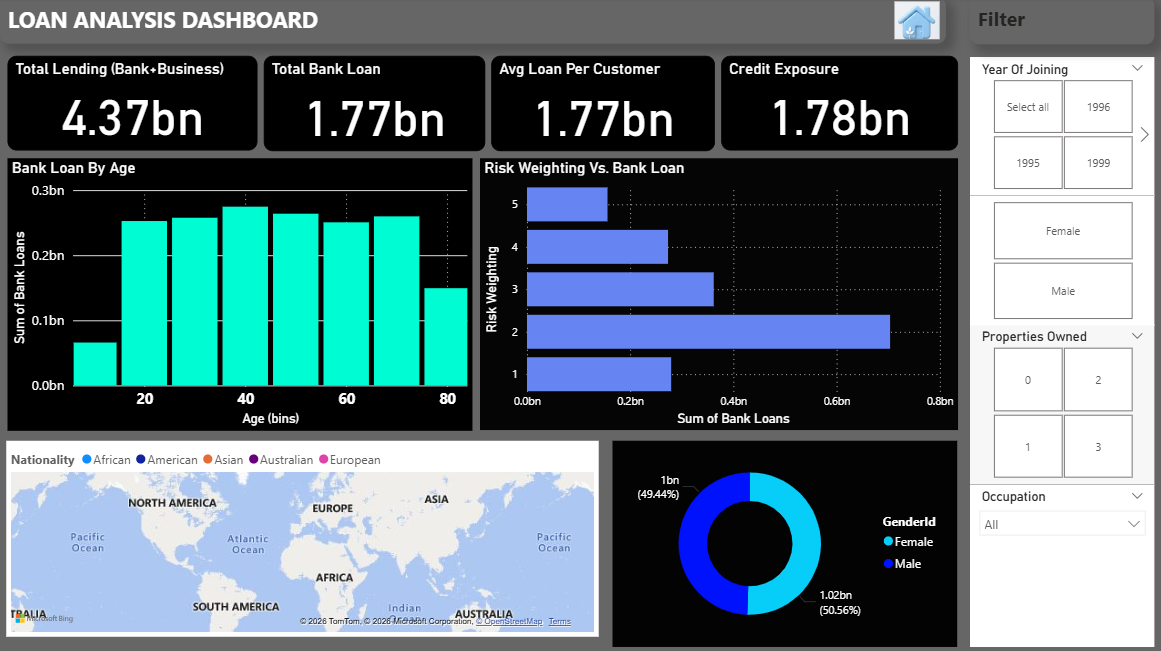

The page's visual inventory and layout, read from the dashboard file:
{"tool":"powerbi","page":{"name":"Page 2","canvas":[1280,720],"ordinal":1},"visuals":[{"type":"card","title":"Total Lending (Bank+Business)","fields":{"Values":["Banking.Total Lending"]},"box":[7.7,64.6,274.6,103.8],"z":0},{"type":"card","title":"Total Bank Loan","fields":{"Values":["Sum(Banking.Bank Loans)"]},"box":[289.2,64.6,243.1,104.6],"z":1000},{"type":"card","title":"Avg Loan Per Customer","fields":{"Values":["Banking.Avg Loan"]},"box":[539.4,64.4,245.6,104.4],"z":2000},{"type":"card","title":"Credit Exposure","fields":{"Values":["Banking.Credit Exposure"]},"box":[791.2,65,260,103.8],"z":3000},{"type":"clusteredColumnChart","title":"Bank Loan By Age","fields":{"Category":["Banking.Age (bins)"],"Y":["Sum(Banking.Bank Loans)"]},"box":[7.6,177.1,510,299.4],"z":4000},{"type":"textbox","box":[0,0,1038.6,51.4],"z":5000},{"type":"clusteredBarChart","title":"Risk Weighting Vs. Bank Loan ","fields":{"Category":["Banking.Risk Weighting"],"Y":["Sum(Banking.Bank Loans)"]},"box":[526.2,177.5,525,298.8],"z":6000},{"type":"donutChart","fields":{"Category":["Banking.GenderId"],"Y":["Sum(Banking.Bank Deposits)"]},"box":[672.5,487.5,378.8,226.2],"z":7000},{"type":"slicer","fields":{"Values":["Banking.Occupation"]},"box":[1065,535,202.5,178.8],"z":8000},{"type":"slicer","fields":{"Values":["Banking.GenderId"]},"box":[1065,217.5,202.5,142.5],"z":9000},{"type":"slicer","fields":{"Values":["Banking.Properties Owned"]},"box":[1065,360,202.5,175],"z":10000},{"type":"slicer","fields":{"Values":["Banking.Year Of Joining"]},"box":[1065.5,65.5,202.7,151.8],"z":11000},{"type":"filledMap","fields":{"Series":["Banking.Nationality"]},"box":[7.5,487.5,650,215],"z":12000},{"type":"image","box":[961.2,0,90,51.2],"z":13000},{"type":"textbox","box":[1065.5,0,202.7,51.8],"z":14000}]}

Visuals, with their boxes in screenshot pixels (x1, y1, x2, y2), scaled from the page's 1280x720 canvas onto the 1161x651 screenshot:
"Total Lending (Bank+Business)" card: (x1=7, y1=58, x2=256, y2=152)
"Total Bank Loan" card: (x1=262, y1=58, x2=483, y2=153)
"Avg Loan Per Customer" card: (x1=489, y1=58, x2=712, y2=153)
"Credit Exposure" card: (x1=718, y1=59, x2=953, y2=153)
"Bank Loan By Age" clusteredColumnChart: (x1=7, y1=160, x2=469, y2=431)
textbox: (x1=0, y1=0, x2=942, y2=46)
"Risk Weighting Vs. Bank Loan " clusteredBarChart: (x1=477, y1=160, x2=953, y2=431)
donutChart - Banking.GenderId x Sum(Banking.Bank Deposits): (x1=610, y1=441, x2=954, y2=645)
slicer - Banking.Occupation: (x1=966, y1=484, x2=1150, y2=645)
slicer - Banking.GenderId: (x1=966, y1=197, x2=1150, y2=326)
slicer - Banking.Properties Owned: (x1=966, y1=326, x2=1150, y2=484)
slicer - Banking.Year Of Joining: (x1=966, y1=59, x2=1150, y2=196)
filledMap - Banking.Nationality: (x1=7, y1=441, x2=596, y2=635)
image: (x1=872, y1=0, x2=953, y2=46)
textbox: (x1=966, y1=0, x2=1150, y2=47)
